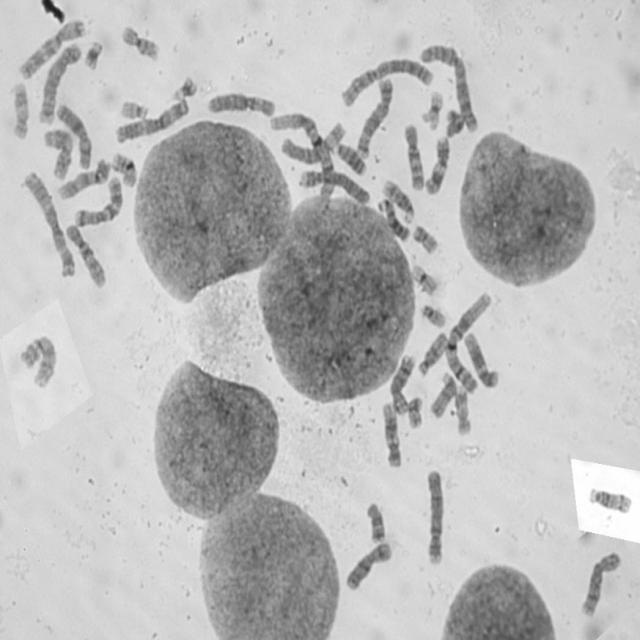A1: (266, 109, 338, 199), (441, 287, 492, 395)
A2: (418, 38, 481, 134), (337, 52, 436, 107)
A3: (21, 166, 77, 279), (113, 92, 192, 144)
B4: (296, 163, 372, 206), (422, 465, 447, 567)
B5: (36, 36, 83, 126), (354, 73, 394, 159)
C10: (63, 218, 109, 290), (400, 118, 426, 193)
C11: (40, 124, 76, 181), (421, 131, 452, 196)
C12: (462, 328, 501, 390), (379, 398, 404, 469)
C6: (277, 117, 348, 165), (204, 87, 278, 119)
C7: (16, 14, 87, 80), (72, 170, 126, 228)
C8: (578, 546, 624, 618), (387, 349, 417, 416)
C9: (15, 329, 59, 390), (55, 154, 111, 201)
D13: (375, 194, 412, 242), (331, 136, 368, 177)
D14: (380, 174, 416, 223), (585, 481, 634, 515)
D15: (414, 327, 450, 378), (427, 367, 458, 420)
E16: (118, 20, 162, 61), (109, 146, 139, 188)
E17: (8, 77, 30, 141), (452, 380, 472, 438)
E18: (362, 497, 388, 544), (442, 104, 467, 139)
F19: (419, 85, 445, 128), (409, 259, 439, 296)
F20: (410, 220, 440, 255), (404, 392, 424, 430)
G21: (170, 72, 200, 102), (80, 36, 104, 71)
G22: (117, 95, 151, 121), (418, 299, 448, 328)
X: (53, 99, 95, 171), (342, 537, 394, 592)
